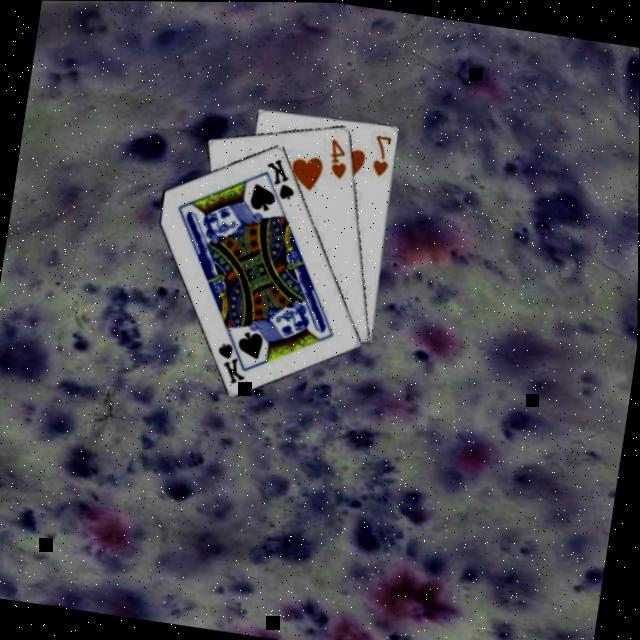4H: (323, 132, 353, 179)
7H: (367, 128, 394, 177)
KS: (210, 328, 253, 385), (259, 151, 301, 201)
